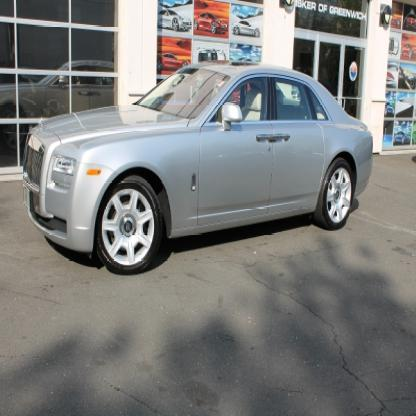Vehicle: (25, 63, 374, 276)
